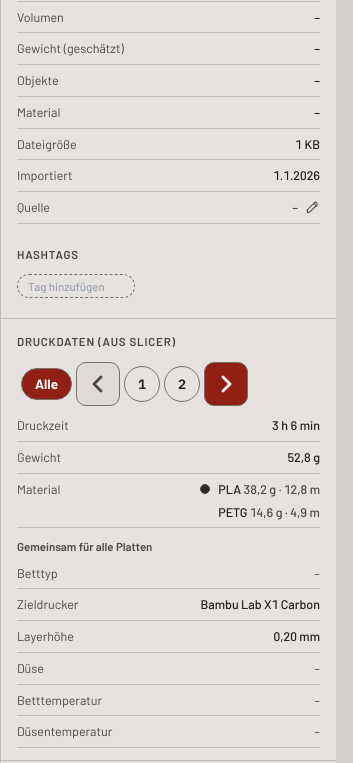
shows the print data card with its values in the compact panel
The width and height of the screenshot is (353, 763).
(page scrolled)
Expected: the text "Bambu Lab X1 Carbon" is shown, [200,596,320,612]
Expected: the text "0,20 mm" is shown, [274,628,320,644]
Click the button named "Platte 2" at (182, 384), box [164,366,200,402]
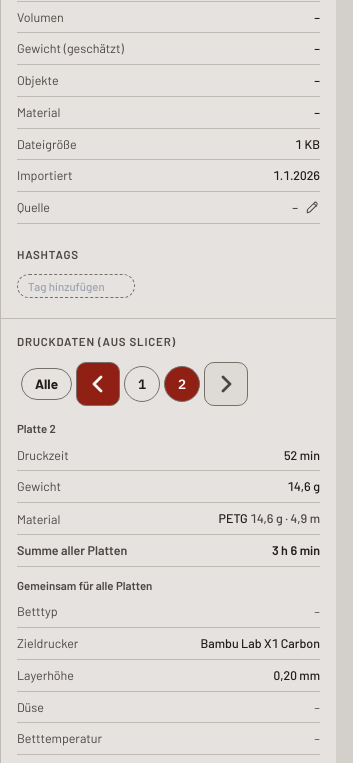
Result: the text "52 min" is shown at [284,447,320,463]
